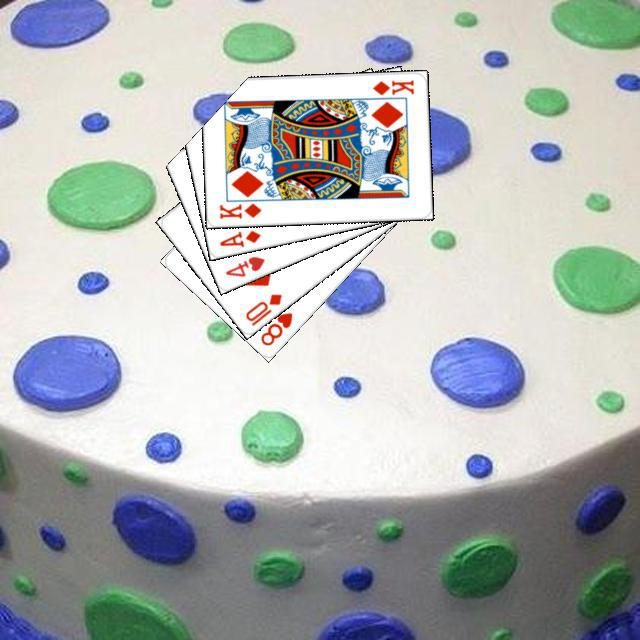10d: (240, 289, 284, 328)
4h: (220, 251, 266, 279)
8h: (255, 307, 294, 347)
Ad: (214, 225, 262, 249)
Kd: (368, 75, 416, 97), (214, 199, 263, 220)
